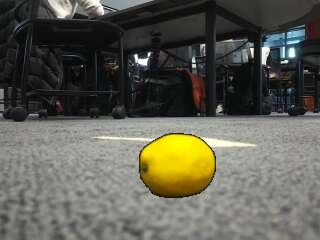lemon: (141, 133, 214, 197)
